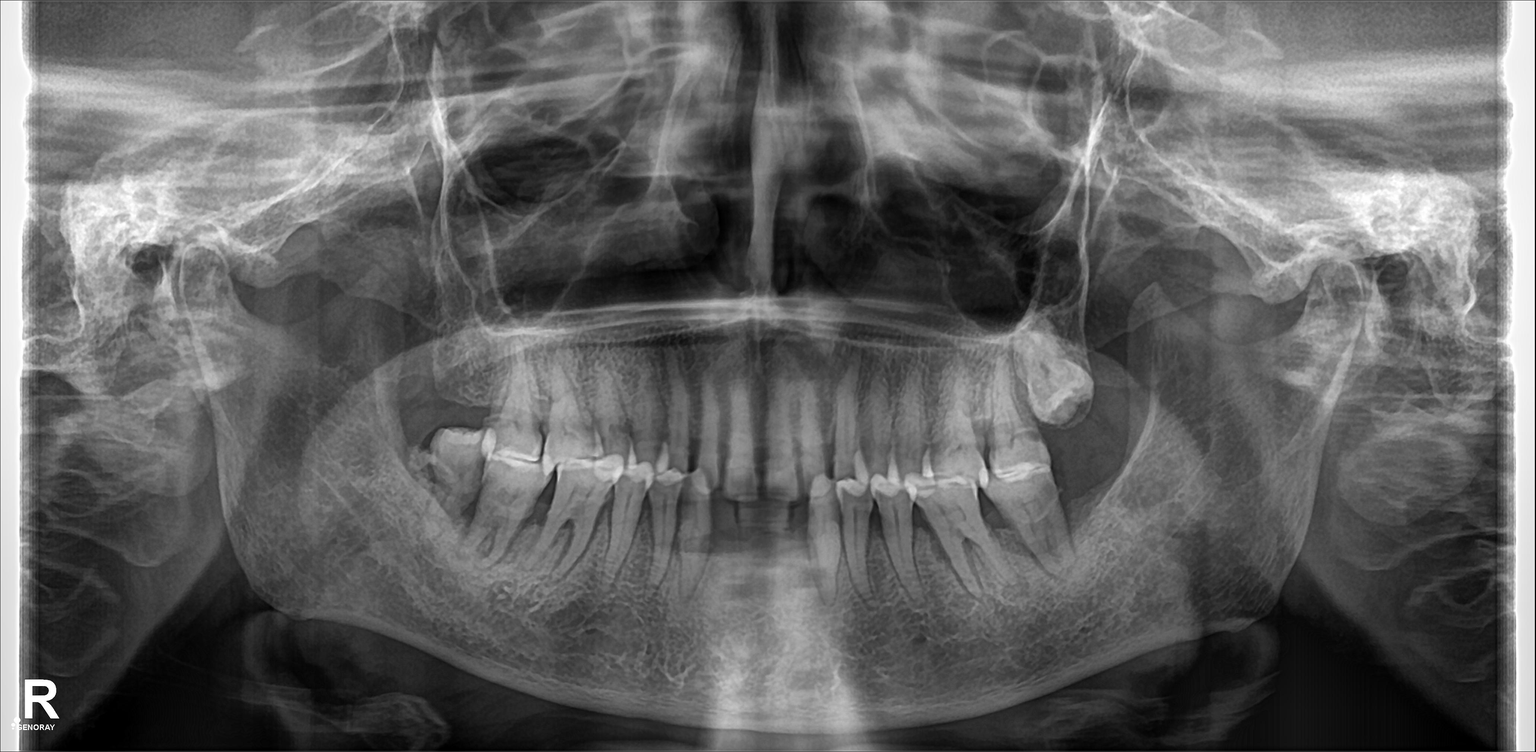Missing Tooth: (1076, 326, 1137, 422), (1048, 463, 1108, 542), (767, 519, 813, 596), (443, 354, 489, 426), (715, 506, 754, 588), (404, 350, 441, 419)
